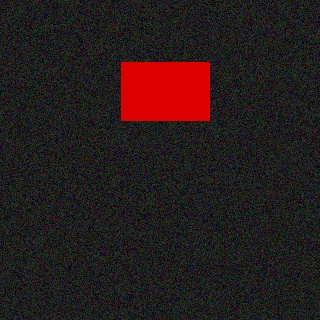red_barrel: (122, 63, 210, 121)
